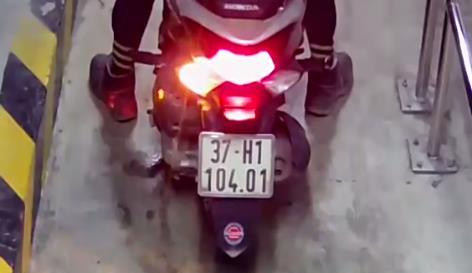lisence: (197, 132, 275, 199)
